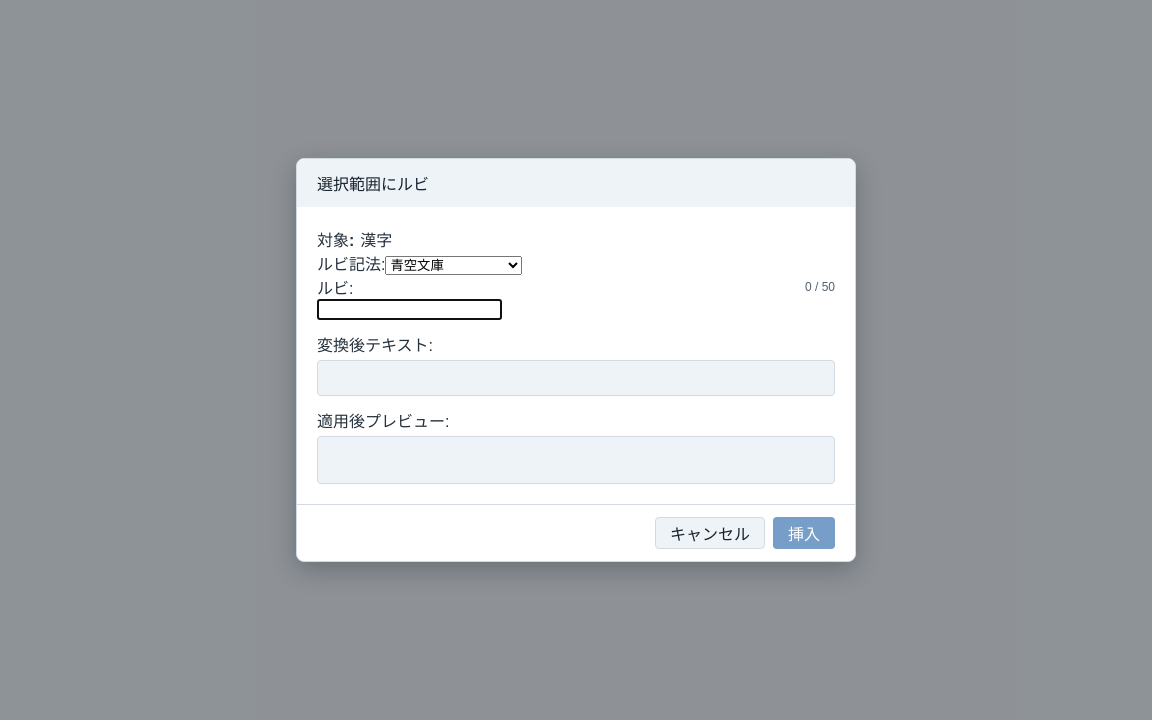
it: RubyMarkupDialog › shows denden footer note only when rule is denden
Expected: the text "全角の「｜」は半角の「|」に変換して挿入します。" is not shown
Select "でんでんMarkdown" in the dropdown labelled "ルビ記法:". click: coordinates (454, 266)
box: [386,256,522,275]
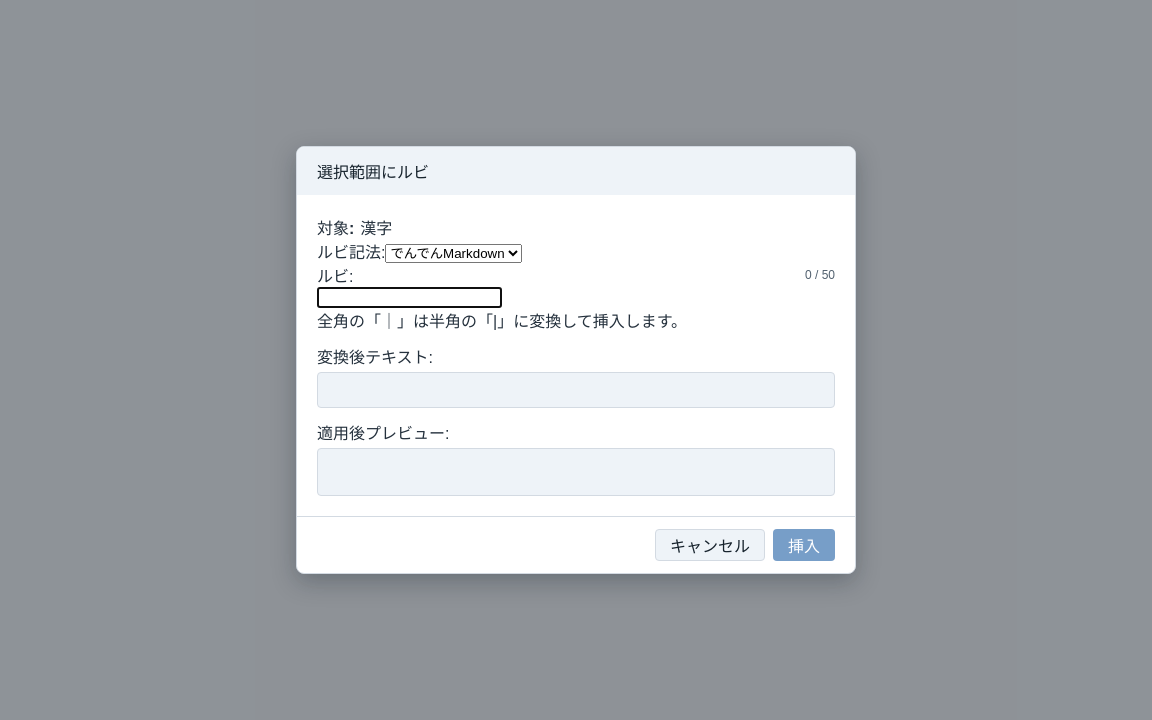
Expected: the text "全角の「｜」は半角の「|」に変換して挿入します。" is shown, [317,313,687,330]
